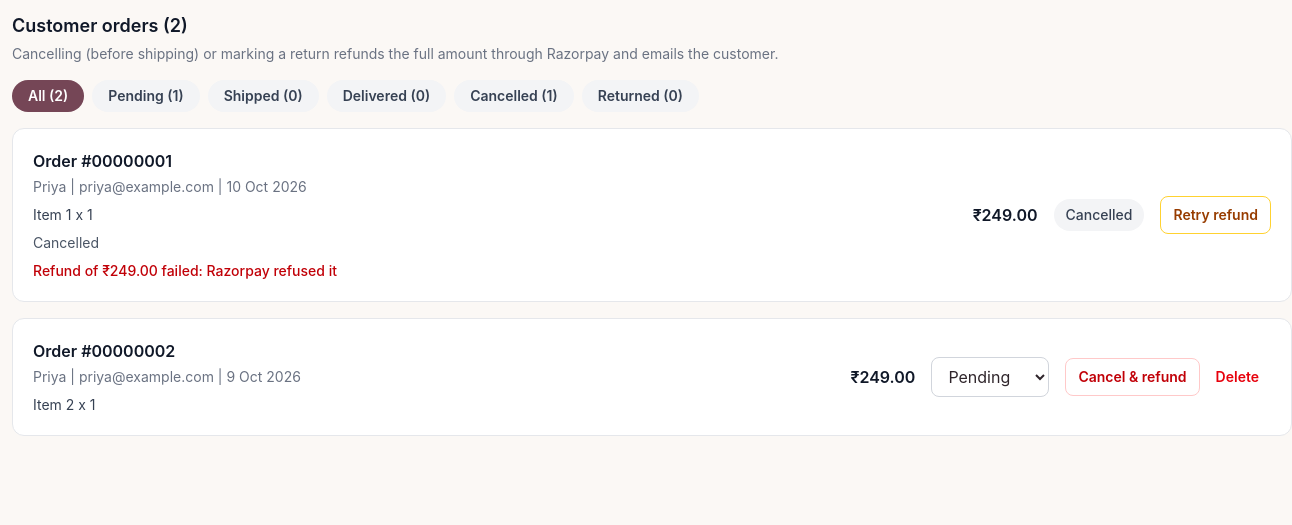
it: a failed refund retry keeps its instructions on screen after the list reloads
What coordinates should you click on to do the following:
click the button "Retry refund"
I would click on:
 (1216, 215)
Its box is [1160,196,1271,234].
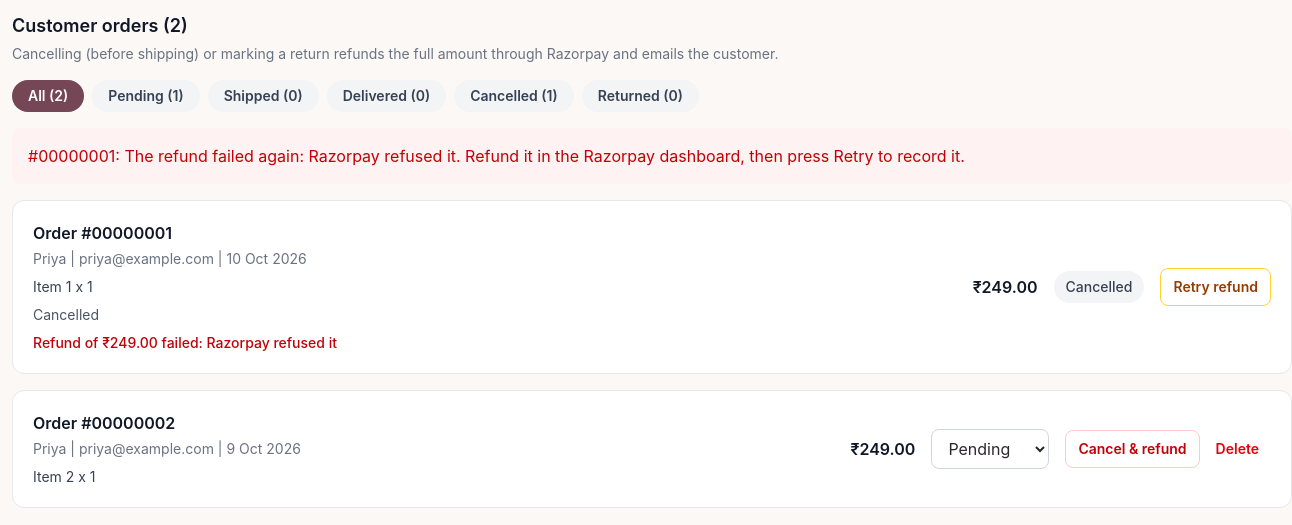
Check: the message shows "then press Retry to record it", box [28,146,965,166]
